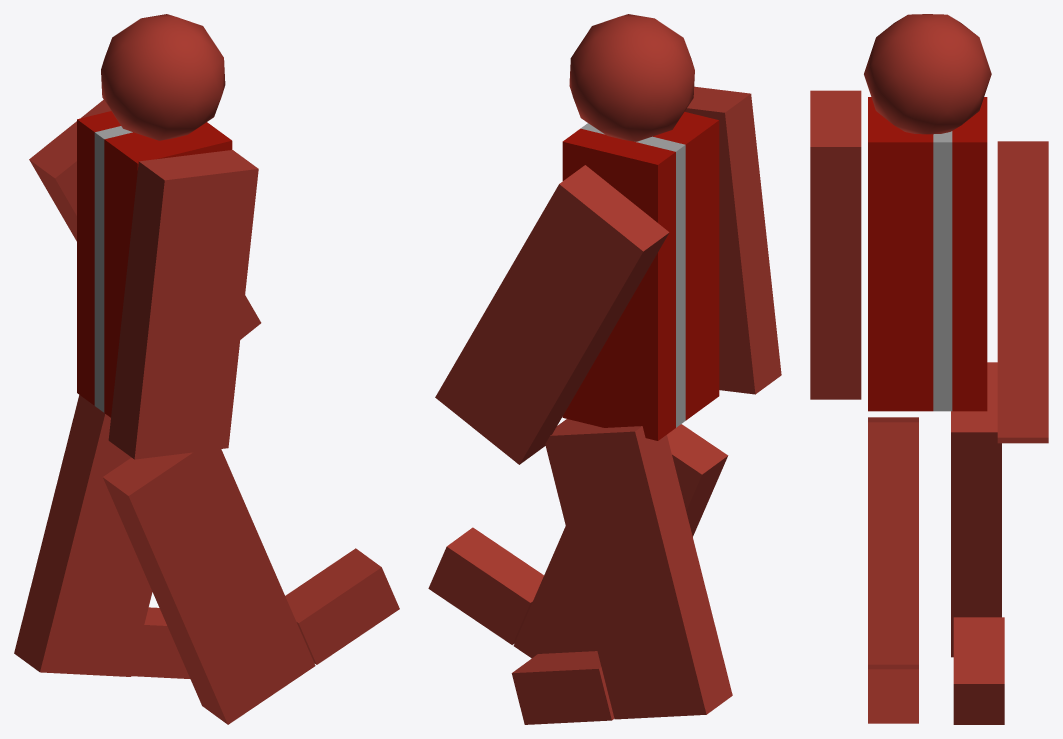
Rendered from player_000033.obj.
3 views of the same model, side by side, from view 1: azimuth 30°, elevation 25°; view 2: azimuth 150°, elevation 25°; view 3: azimuth 270°, elevation 25° (orthographic). The views are drawn at different scales.
Parts seen in each view (by area): view 1: Cube.013, Cube.010, Cube.008, Cube.007, Icosphere.001, Cube.011, Cube.012, Cube.009; view 2: Cube.008, Cube.012, Cube.007, Cube.013, Icosphere.001, Cube.010, Cube.011, Cube.009; view 3: Cube.007, Cube.013, Cube.012, Cube.010, Icosphere.001, Cube.008, Cube.009, Cube.011.
Part boxes in pixels (x1,y1,x2,y2): Cube.013: [108, 150, 258, 459]; Cube.010: [103, 449, 315, 724]; Cube.008: [14, 395, 152, 676]; Cube.007: [77, 111, 232, 417]; Icosphere.001: [101, 14, 225, 140]; Cube.011: [285, 548, 399, 664]; Cube.012: [29, 99, 261, 339]; Cube.009: [131, 607, 190, 678]; Cube.008: [545, 419, 732, 719]; Cube.012: [435, 165, 669, 464]; Cube.007: [562, 111, 719, 440]; Cube.013: [685, 86, 781, 394]; Icosphere.001: [569, 14, 694, 141]; Cube.010: [513, 424, 728, 658]; Cube.011: [428, 527, 543, 644]; Cube.009: [511, 651, 614, 724]; Cube.007: [868, 97, 987, 411]; Cube.013: [810, 90, 861, 399]; Cube.012: [997, 141, 1048, 443]; Cube.010: [868, 417, 918, 664]; Icosphere.001: [864, 14, 991, 134]; Cube.008: [951, 362, 1001, 657]; Cube.009: [953, 617, 1004, 724]; Cube.011: [868, 664, 918, 723].
Size of the model in its own units: 1.38 by 2.87 by 0.9137.
